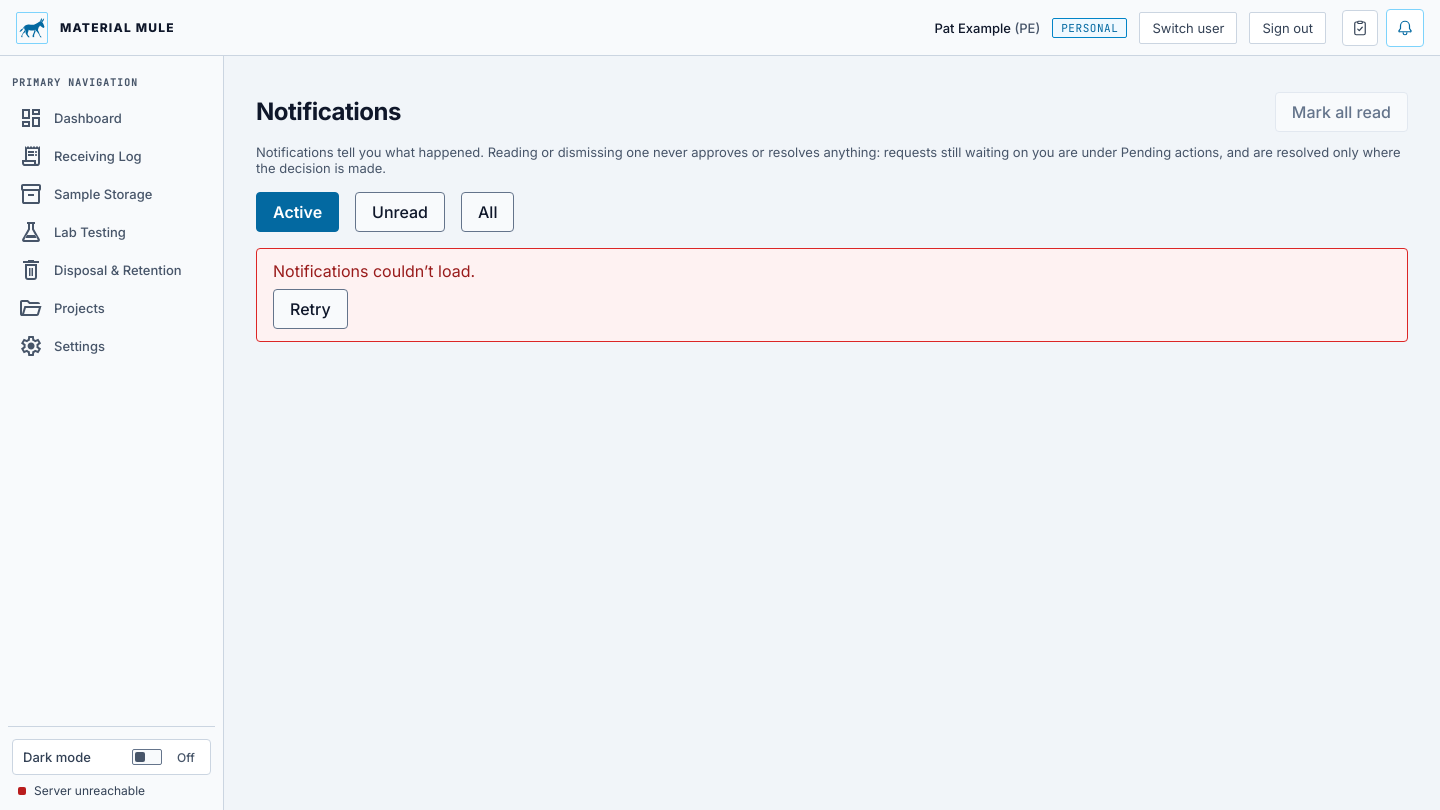
Test case: Notification center (MM-T91) › says so when the list fails, and Retry reloads it
Expected: the message shows "Notifications couldn’t load.", [273,261,475,281]
Step 1. Click the button "Retry" → (310, 309), box [273,289,348,329]
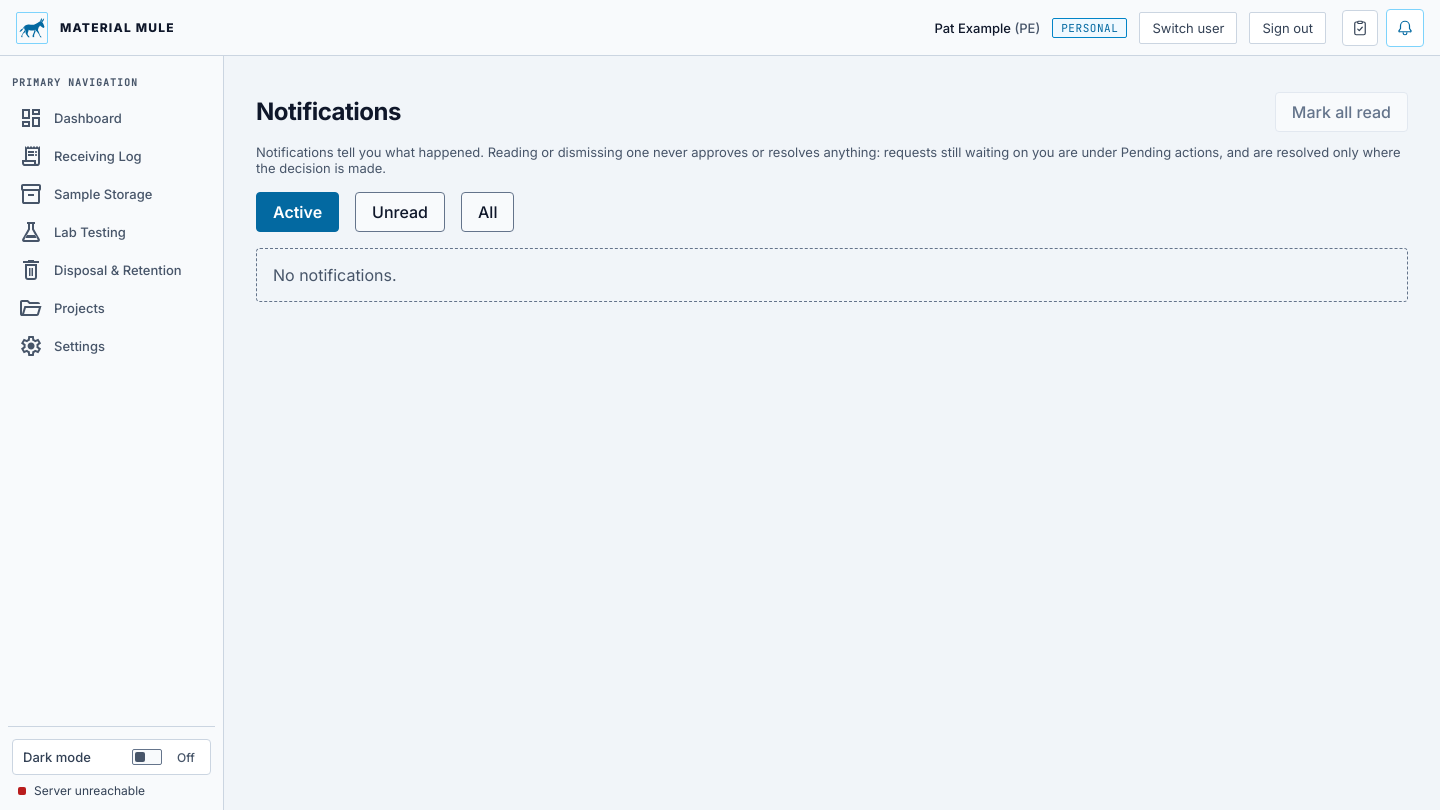
Expected: the button "Mark all read" is disabled, [1275,92,1408,132]
Now the text "No notifications." is shown, box [256,248,1408,302]
